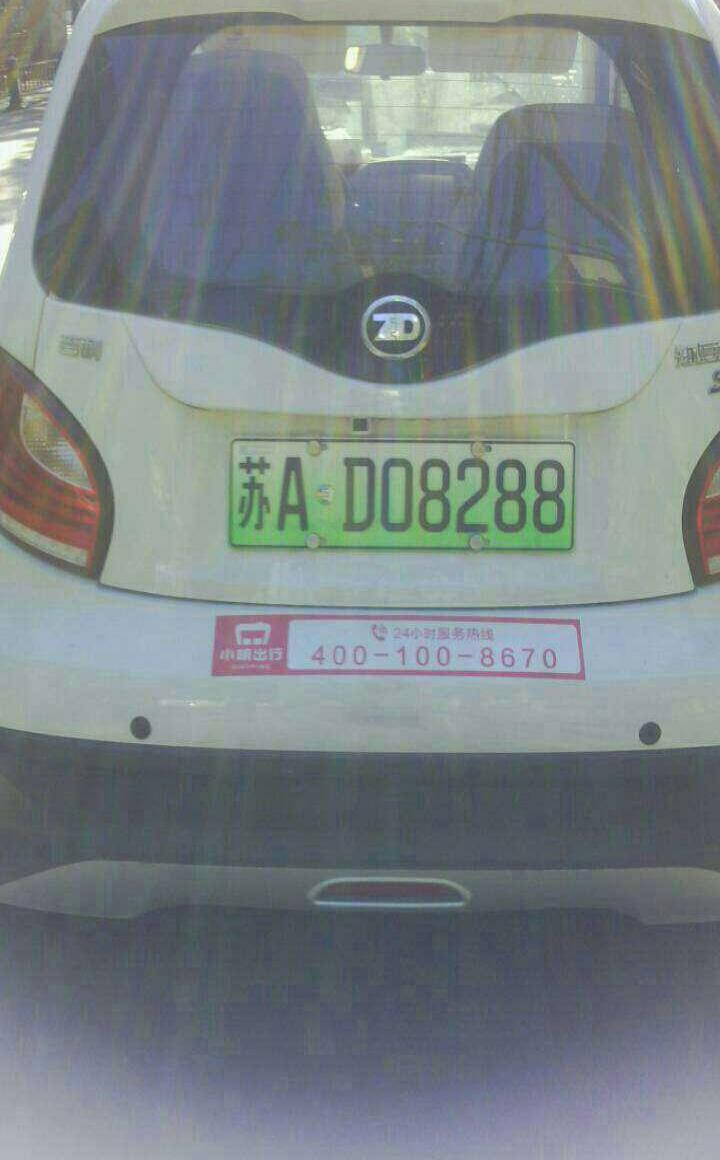car_id: (230, 445, 574, 546)
